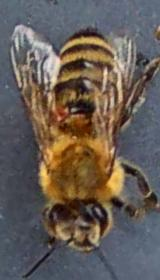varroa_mite: (48, 93, 70, 132)
